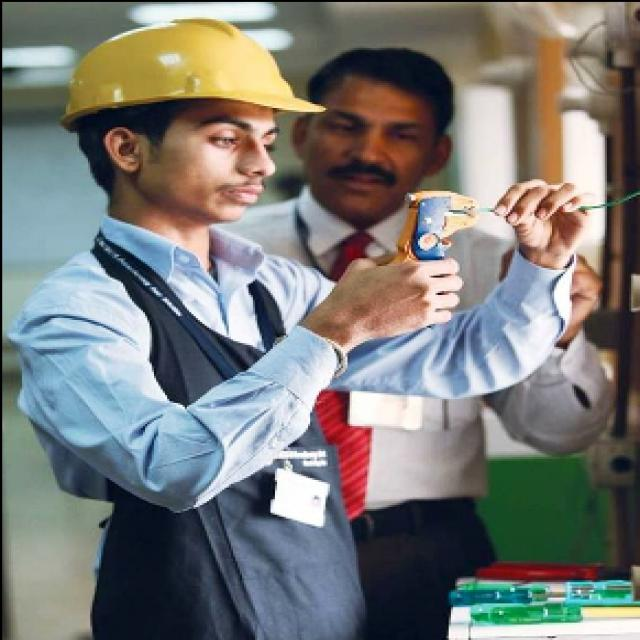Safety-Helmet: (55, 16, 319, 131)
